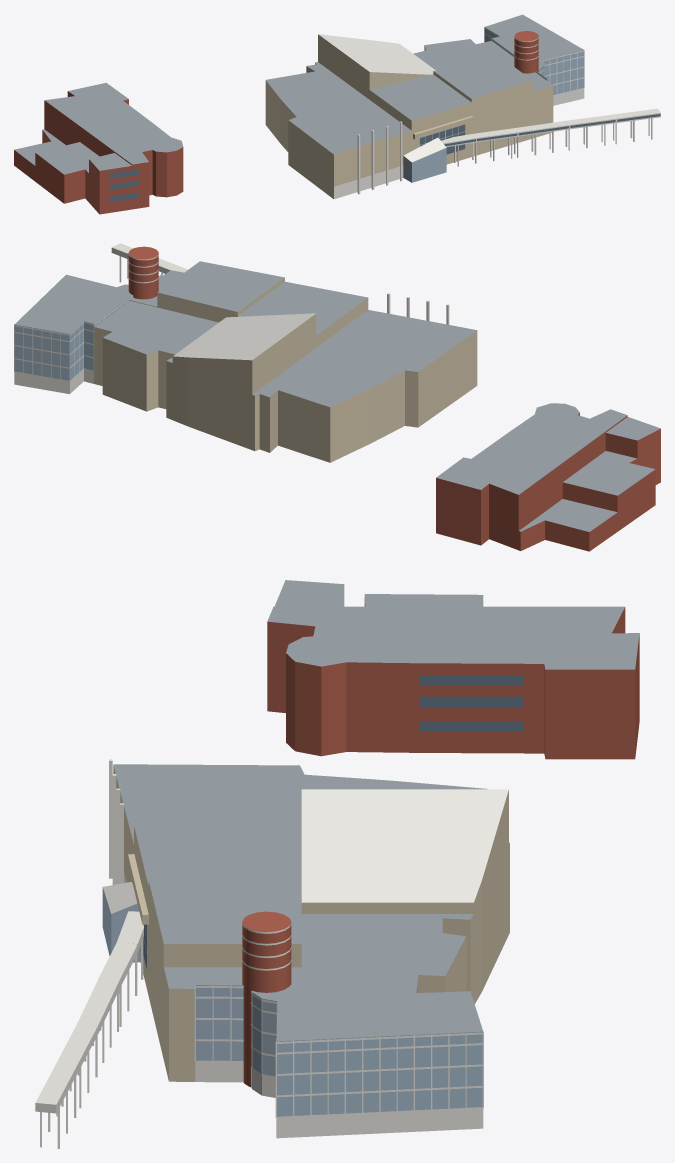
File: indy-indiana-state-museum.glb
3 views of the same model, one above another, from view 1: azimuth 30°, elevation 25°; view 2: azimuth 150°, elevation 25°; view 3: azimuth 270°, elevation 25° (orthographic). The views are drawn at different scales.
Visible parts, largest first — view 1: Indiana State Museum; view 2: Indiana State Museum; view 3: Indiana State Museum.
Boxes of the visible parts, <box> form: Indiana State Museum: <box>14,14,660,214</box>; Indiana State Museum: <box>14,243,660,551</box>; Indiana State Museum: <box>35,580,639,1148</box>.
Bounding box in the file's own units: 223 × 32.55 × 113.
